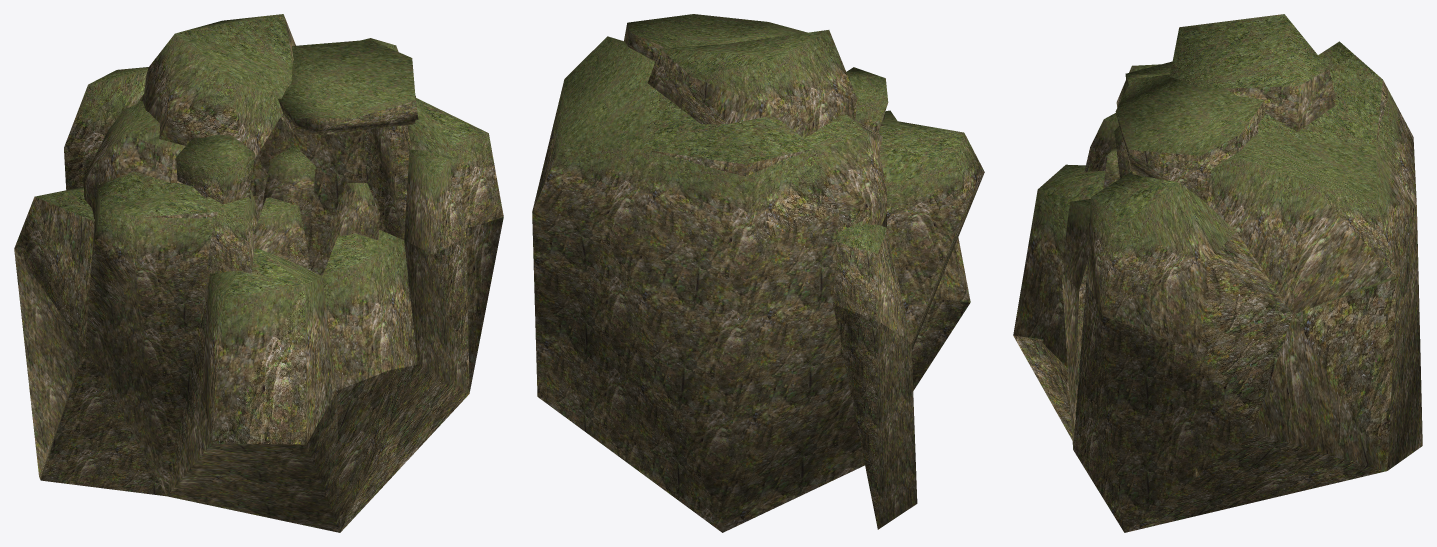
File: poi_all_lair_rancor_dark_large_l3.fbx
3 renders of one model, left to right at view 1: azimuth 30°, elevation 25°; view 2: azimuth 150°, elevation 25°; view 3: azimuth 270°, elevation 25°, orthographic. The views are drawn at different scales.
Parts seen in each view (by area): view 1: mesh_node; view 2: mesh_node; view 3: mesh_node.
Boxes of the visible parts, x1,y1,x2,y2 form: mesh_node: (14, 14, 503, 532); mesh_node: (532, 14, 984, 532); mesh_node: (1013, 14, 1422, 532).
Bounding box in the file's own units: 33.6 × 37.85 × 29.55.
